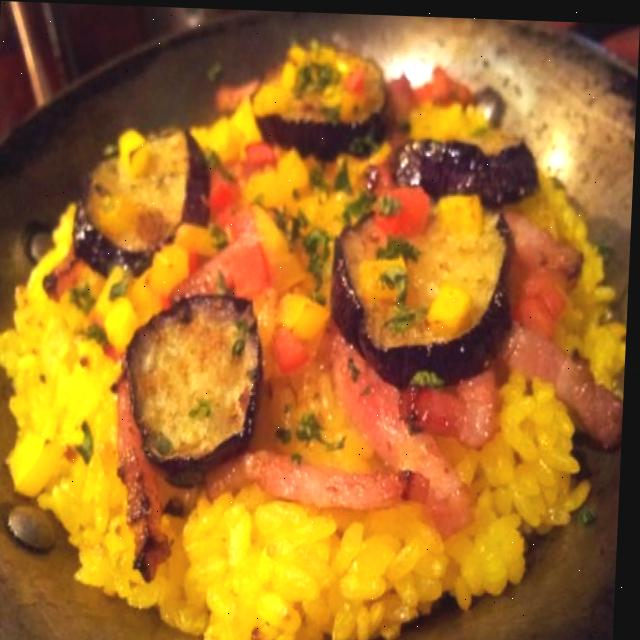鸡蛋料理: (6, 79, 629, 579)
